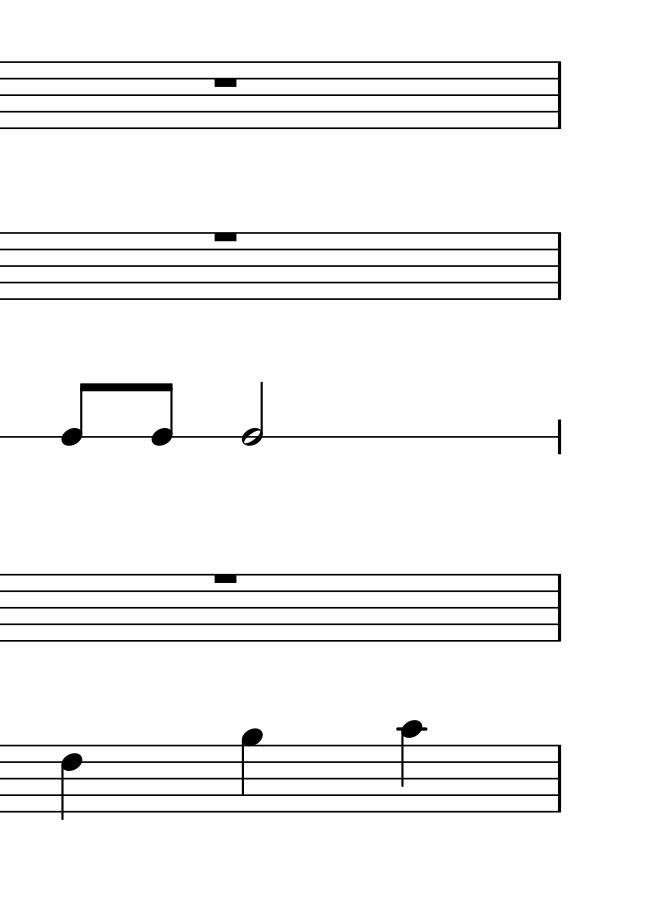2_4: (241, 376, 265, 445)
4_10: (398, 718, 424, 814)
4_6: (58, 741, 85, 822)
4_9: (239, 726, 264, 814)
8_4: (61, 381, 92, 447), (150, 381, 175, 447)
Rests1: (210, 73, 242, 91), (210, 228, 241, 246), (210, 570, 241, 588)
Single_barline: (550, 745, 567, 811), (551, 62, 567, 128), (551, 233, 567, 298), (551, 576, 567, 641)
